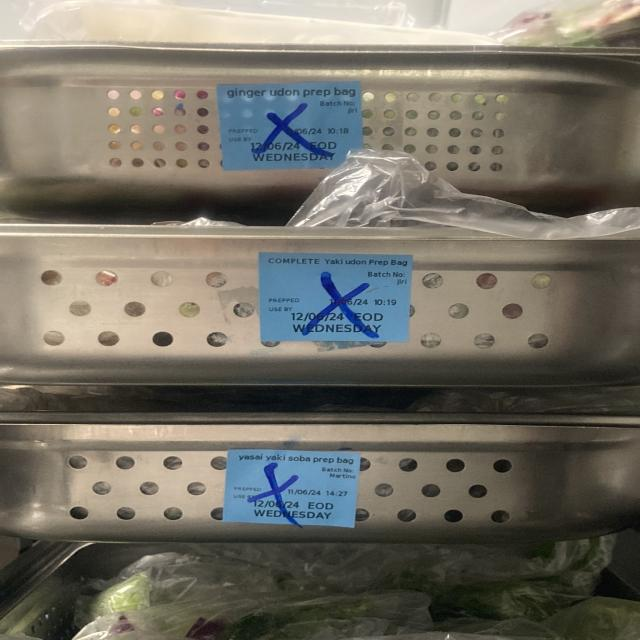product-labels: (258, 252, 414, 347), (217, 81, 368, 171), (225, 448, 363, 532)
